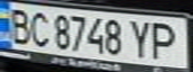4: (84, 15, 106, 54)
7: (66, 12, 87, 52)
8: (48, 11, 72, 51), (103, 16, 127, 56)
B: (3, 4, 33, 45)
C: (24, 8, 54, 47)
P: (145, 19, 187, 61)
Y: (127, 17, 157, 59)
